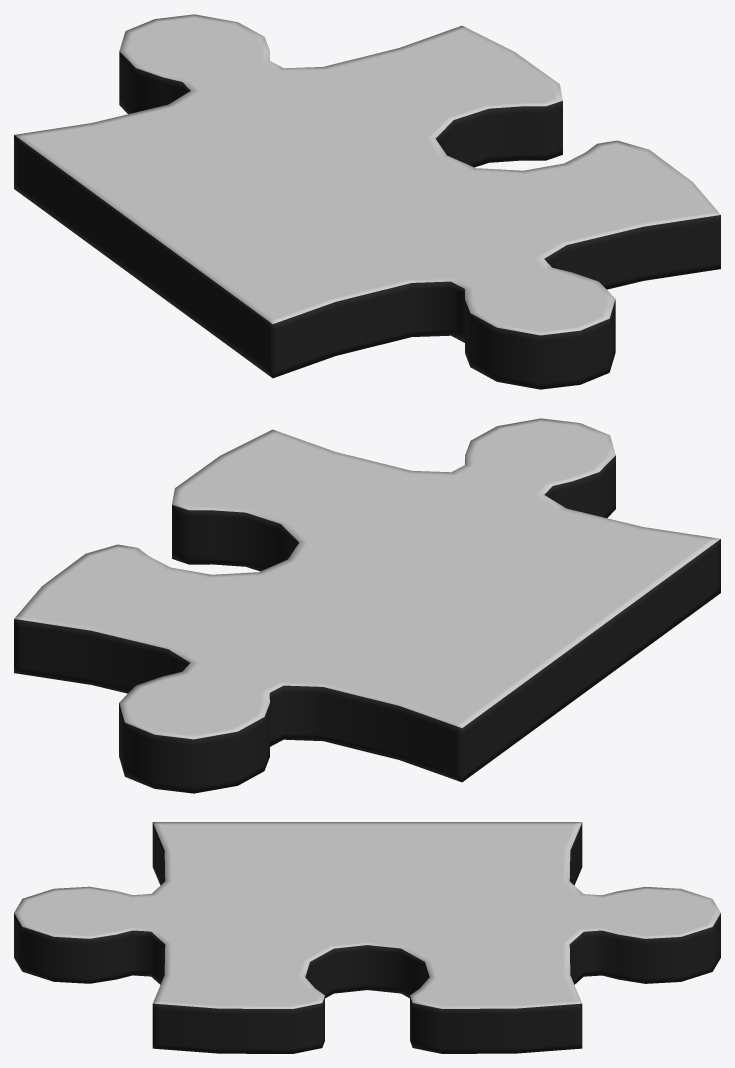
The picture shows the model from 3 angles, top to bottom: view 1: azimuth 30°, elevation 25°; view 2: azimuth 150°, elevation 25°; view 3: azimuth 270°, elevation 25°; orthographic projection. The views are drawn at different scales.
Parts seen in each view (by area): view 1: puzzle58; view 2: puzzle58; view 3: puzzle58.
Boxes of the visible parts, x1,y1,x2,y2 form: puzzle58: (14, 14, 720, 389); puzzle58: (14, 418, 720, 793); puzzle58: (14, 822, 720, 1053).
Size of the model in its own units: 3.07 by 0.344 by 4.9.
